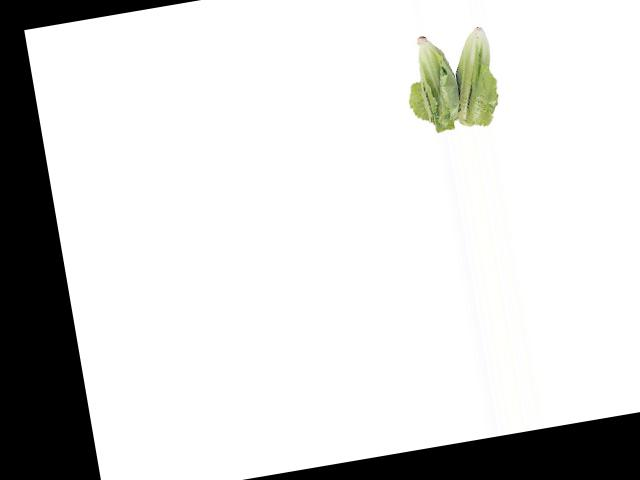lettuce: (408, 23, 508, 136)
